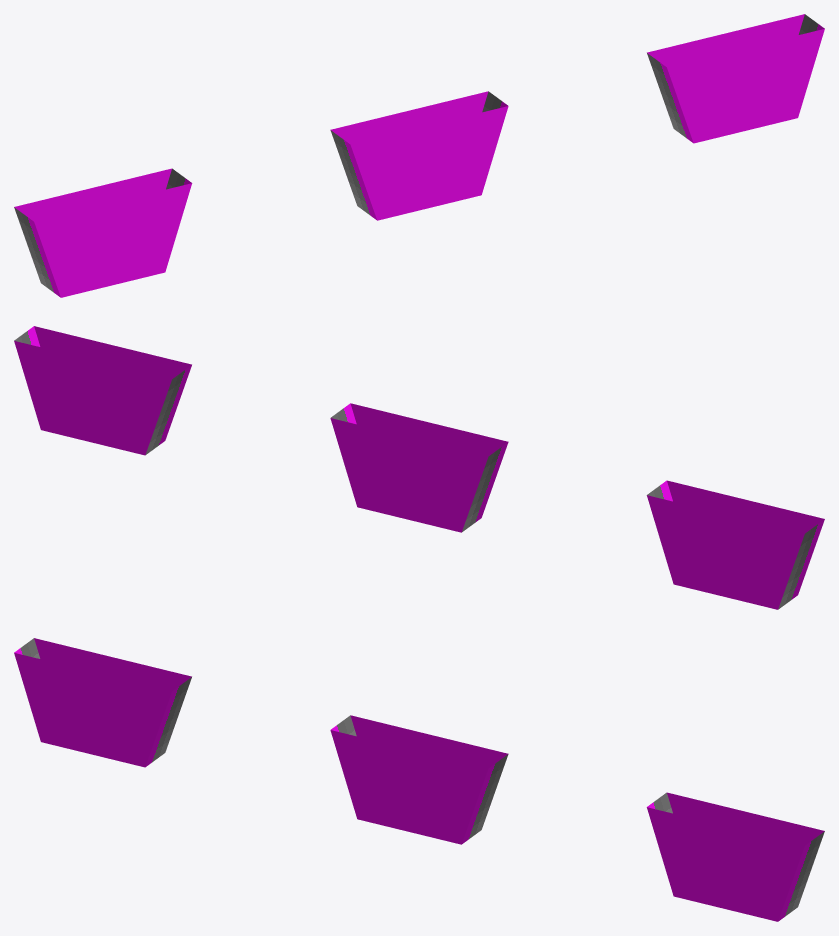
Rendered from hangar_door_lower.obj.
The picture shows the model from 3 angles, top to bottom: view 1: azimuth 30°, elevation 25°; view 2: azimuth 150°, elevation 25°; view 3: azimuth 330°, elevation 25°; orthographic projection.
Parts seen in each view (by area): view 1: Box004, Box003, Box002; view 2: Box004, Box003, Box002; view 3: Box002, Box004, Box003.
Part boxes in pixels (box(x1,y1,x2,y2)): Box004: box(647, 14, 824, 143); Box003: box(330, 91, 508, 220); Box002: box(14, 168, 192, 297); Box004: box(14, 326, 191, 455); Box003: box(330, 403, 508, 532); Box002: box(646, 480, 824, 609); Box002: box(14, 638, 191, 767); Box004: box(646, 792, 824, 921); Box003: box(330, 715, 508, 844).
Bounding box in the file's own units: 2.5 × 0.25 × 0.11.
